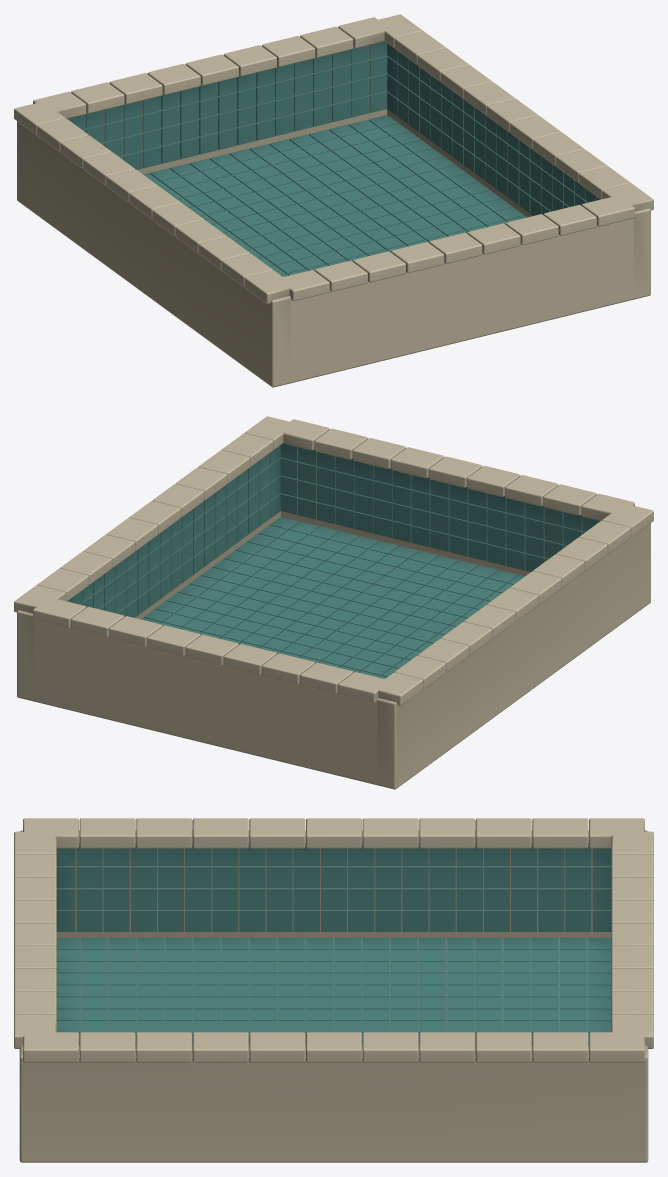
File: poolshell.glb
3 renders of one model, top to bottom at view 1: azimuth 30°, elevation 25°; view 2: azimuth 150°, elevation 25°; view 3: azimuth 270°, elevation 25°, orthographic. The views are drawn at different scales.
Parts seen in each view (by area): view 1: Atelier_Poolshell; view 2: Atelier_Poolshell; view 3: Atelier_Poolshell.
Boxes of the visible parts, x1=… form: Atelier_Poolshell: x1=14, y1=14, x2=653, y2=387; Atelier_Poolshell: x1=14, y1=416, x2=653, y2=789; Atelier_Poolshell: x1=14, y1=818, x2=653, y2=1162.
Bounding box in the file's own units: 3.86 × 0.9475 × 4.5.
